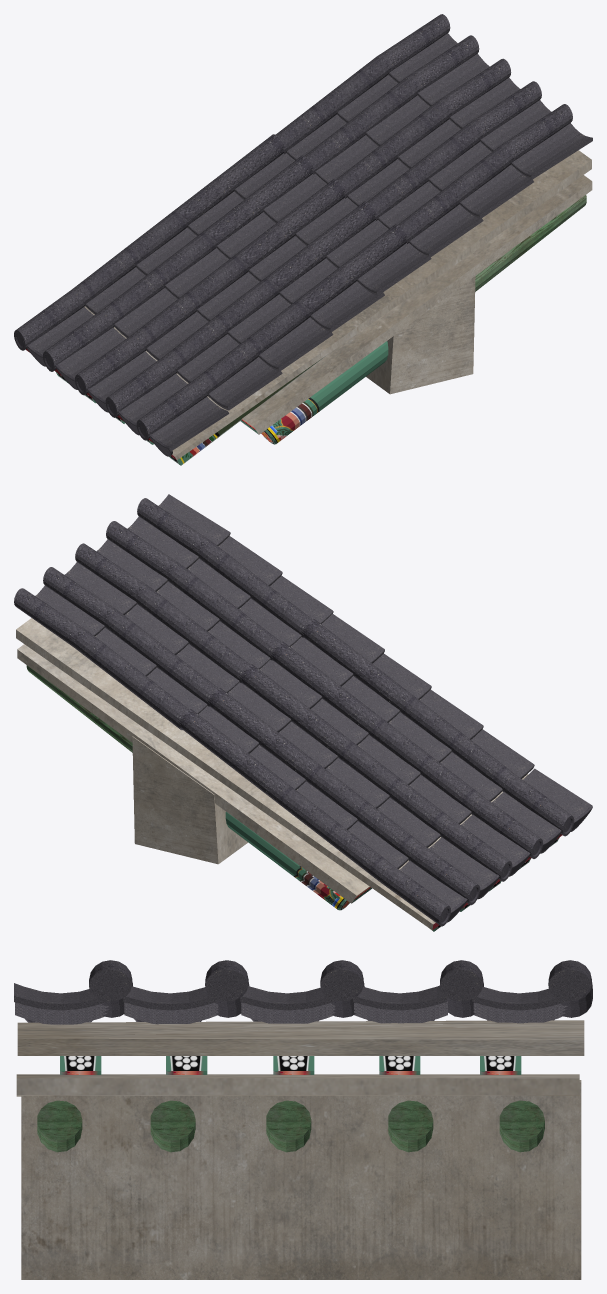
File: SM_Roof_25.fbx
The picture shows the model from 3 angles, top to bottom: view 1: azimuth 30°, elevation 25°; view 2: azimuth 150°, elevation 25°; view 3: azimuth 270°, elevation 25°; orthographic projection. The views are drawn at different scales.
Visible parts, largest first — view 1: SM_Roof_25; view 2: SM_Roof_25; view 3: SM_Roof_25.
Boxes of the visible parts, <box> form: SM_Roof_25: <box>14,14,592,465</box>; SM_Roof_25: <box>14,494,592,931</box>; SM_Roof_25: <box>14,960,592,1279</box>.
Size of the model in its own units: 538 by 339 by 306.
Materials: 4 (4 with a texture image).
